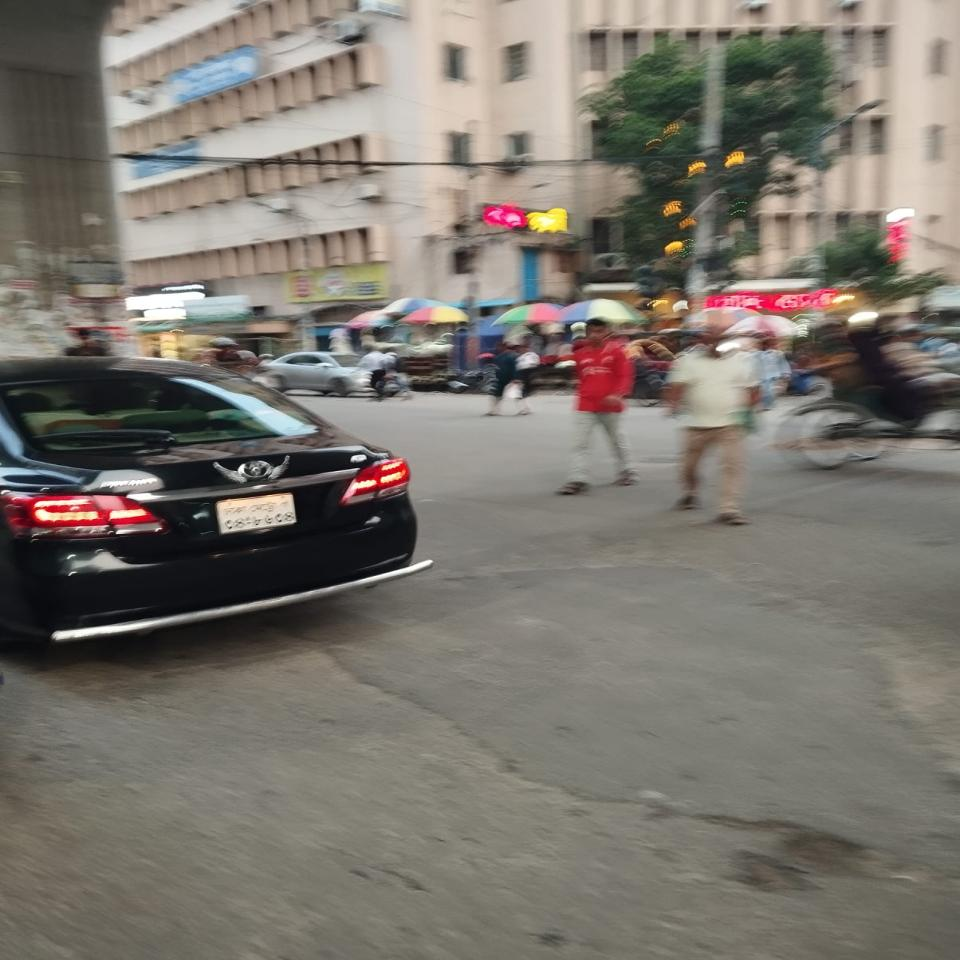person: (664, 329, 760, 526), (557, 318, 637, 496)
